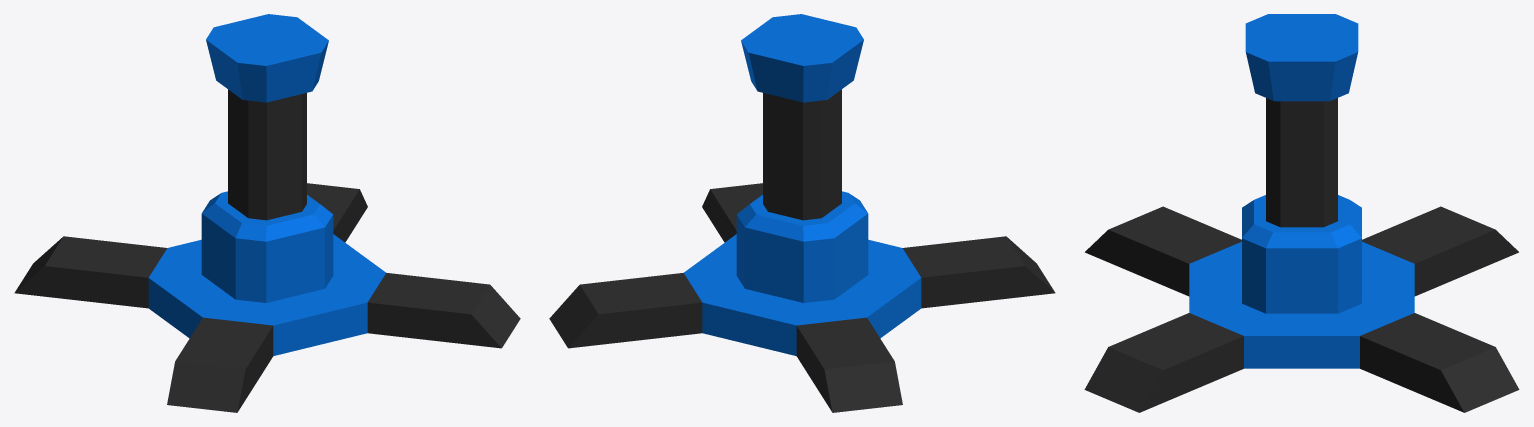
File: turret1body.fbx
3 renders of one model, left to right at view 1: azimuth 30°, elevation 25°; view 2: azimuth 150°, elevation 25°; view 3: azimuth 270°, elevation 25°, orthographic. The views are drawn at different scales.
Visible parts, largest first — view 1: Cube.005; view 2: Cube.005; view 3: Cube.005.
Part boxes in pixels (x1,y1,x2,y2): Cube.005: (14,14,520,412); Cube.005: (549,14,1055,412); Cube.005: (1084,14,1519,412).
Bounding box in the file's own units: 136 × 97.5 × 136.
